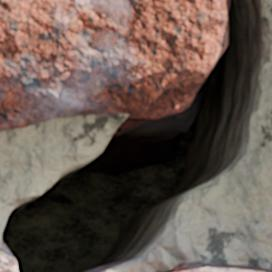brick: (0, 0, 228, 130)
broken_brick: (156, 261, 271, 271), (0, 248, 16, 271)
crack: (0, 0, 271, 271)
